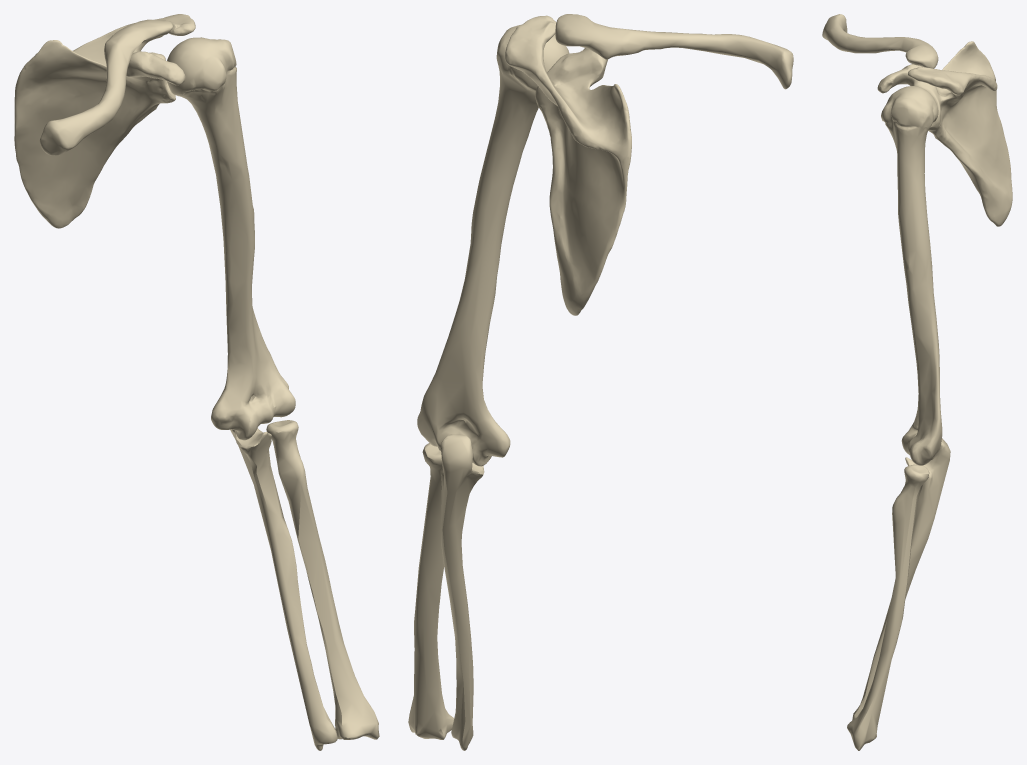
The model's file is armb.glb.
The picture shows the model from 3 angles, left to right: view 1: azimuth 30°, elevation 25°; view 2: azimuth 150°, elevation 25°; view 3: azimuth 270°, elevation 25°; orthographic projection. The views are drawn at different scales.
Visible parts, largest first — view 1: left humerus, left scapula, left radius, left ulna, left clavicle; view 2: left scapula, left humerus, left radius, left ulna, left clavicle; view 3: left humerus, left scapula, left radius, left ulna, left clavicle.
Boxes of the visible parts, bbox=[...] form: left humerus: bbox=[167, 37, 295, 440]; left scapula: bbox=[14, 14, 195, 228]; left radius: bbox=[266, 420, 379, 739]; left ulna: bbox=[230, 428, 337, 750]; left clavicle: bbox=[39, 19, 173, 155]; left scapula: bbox=[505, 15, 631, 315]; left humerus: bbox=[417, 24, 569, 466]; left radius: bbox=[408, 443, 454, 739]; left ulna: bbox=[440, 434, 484, 750]; left clavicle: bbox=[555, 14, 793, 89]; left humerus: bbox=[881, 86, 942, 465]; left scapula: bbox=[877, 41, 1012, 226]; left radius: bbox=[847, 464, 929, 750]; left ulna: bbox=[852, 438, 950, 720]; left clavicle: bbox=[822, 14, 938, 68].
Bounding box in the file's own units: 0.2708 × 0.5502 × 0.1522.
